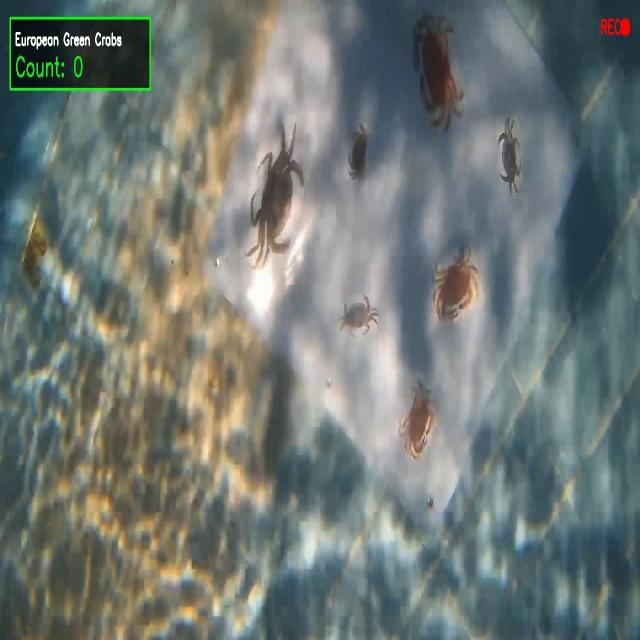European_Green_Crab: (237, 107, 313, 300), (492, 109, 527, 200), (337, 282, 387, 338)
